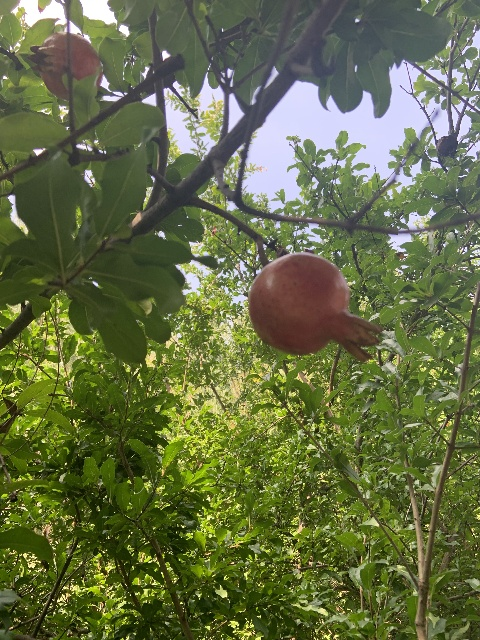ripe: (247, 252, 380, 363), (26, 31, 103, 102)
